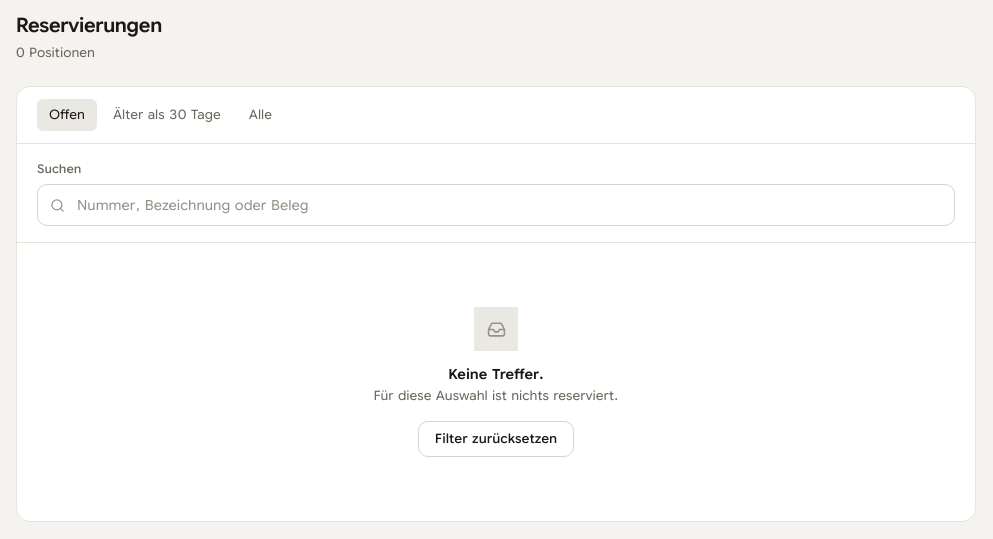
Test: StockReservationListPage › stockReservationListPageExplainsTheEmptyListTest
Click the button "Filter zurücksetzen" at (496,439), box [418,421,574,457]
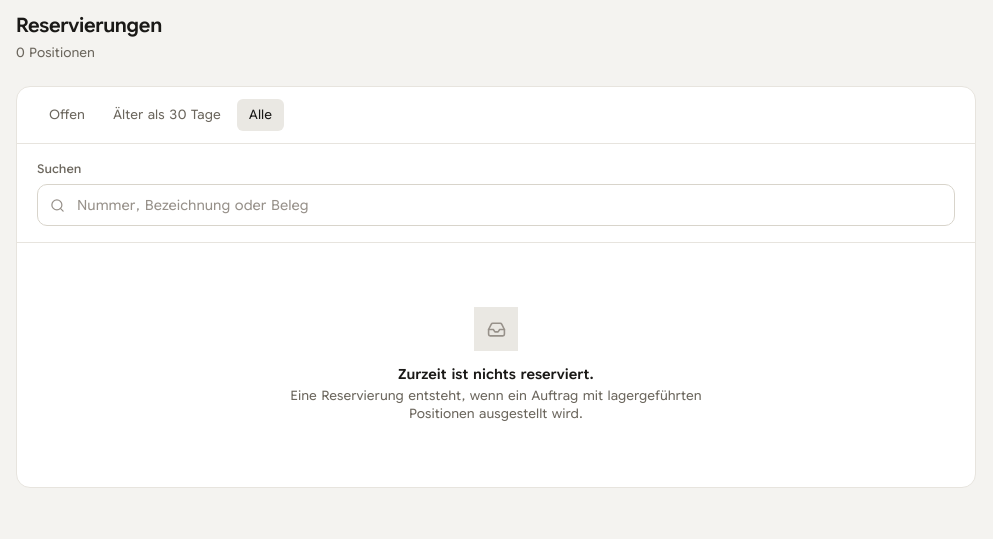
Expected: the text "Zurzeit ist nichts reserviert." is shown, [398,365,594,383]
Expected: the text "Auftrag mit lagergeführten Positionen ausgestellt wird" is shown, [290,387,702,422]
